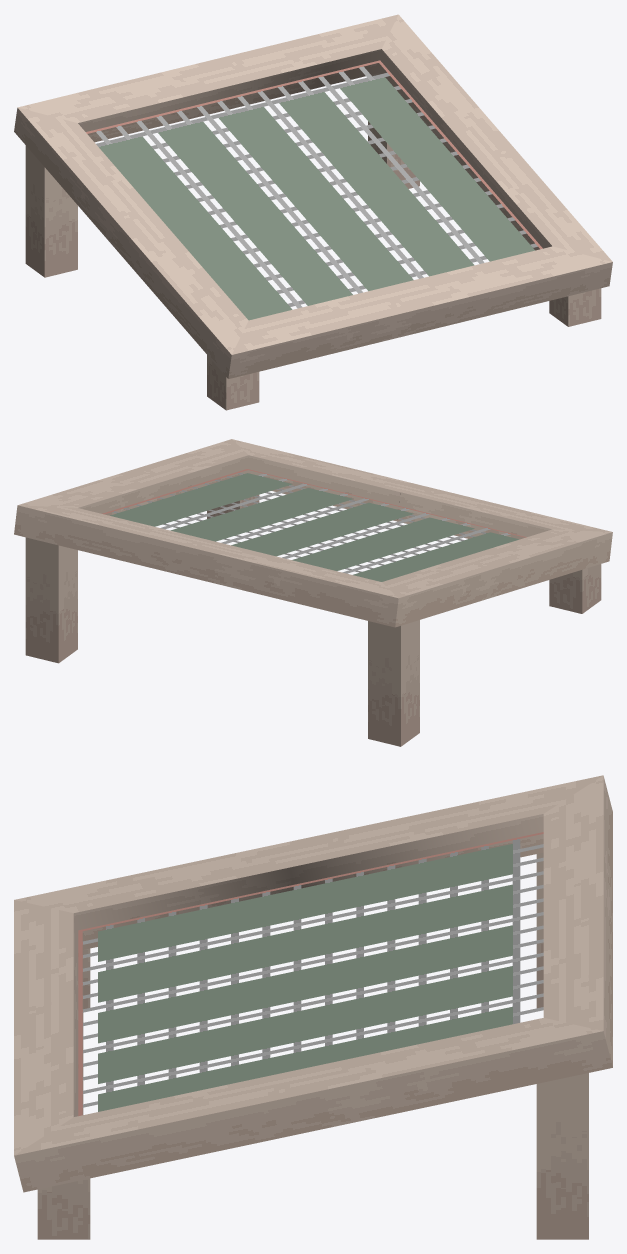
The model's file is 0545_Dried_Kelp.glb.
The picture shows the model from 3 angles, top to bottom: view 1: azimuth 30°, elevation 25°; view 2: azimuth 150°, elevation 25°; view 3: azimuth 270°, elevation 25°; orthographic projection. The views are drawn at different scales.
Visible parts, largest first — view 1: part_0; view 2: part_0; view 3: part_0.
Part boxes in pixels (x1,y1,x2,y2): part_0: (14,14,612,410); part_0: (14,439,612,746); part_0: (14,775,612,1239).
Size of the model in its own units: 3 by 1.15 by 2.97.
1 material, 1 textured.
